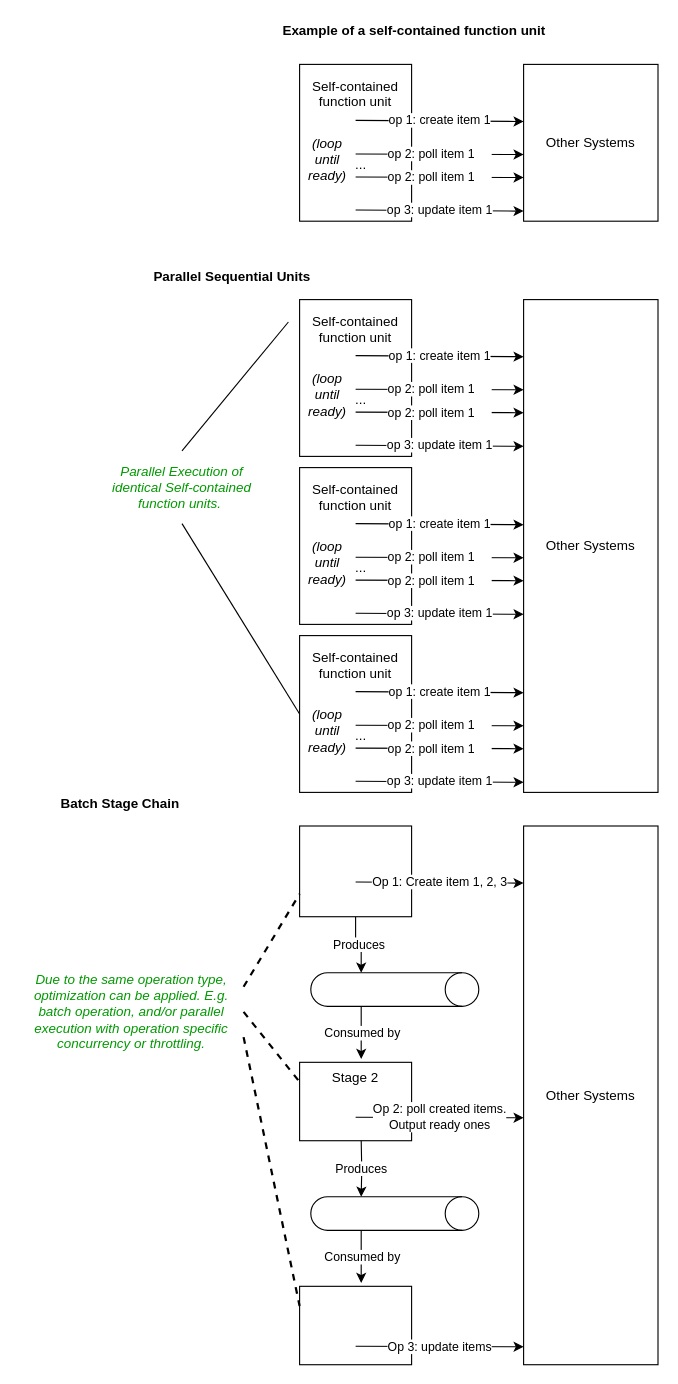
This 678x1384 diagram has some shape labels left out. The shapes that lost their labels are listed below. From the top down, each one's box as (x1, y1, x2, y2) in pixels, then its label:
(298, 825, 412, 917): Stage 1
(310, 972, 479, 1006): Queue: products of stage 1
(310, 1196, 479, 1230): Queue: products of stage 2
(298, 1285, 412, 1365): Stage 3
